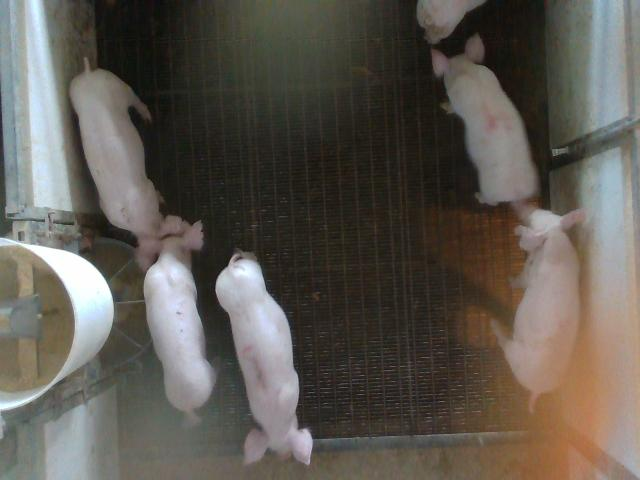pig-3: (216, 250, 311, 464)
pig-4: (432, 36, 539, 204)
